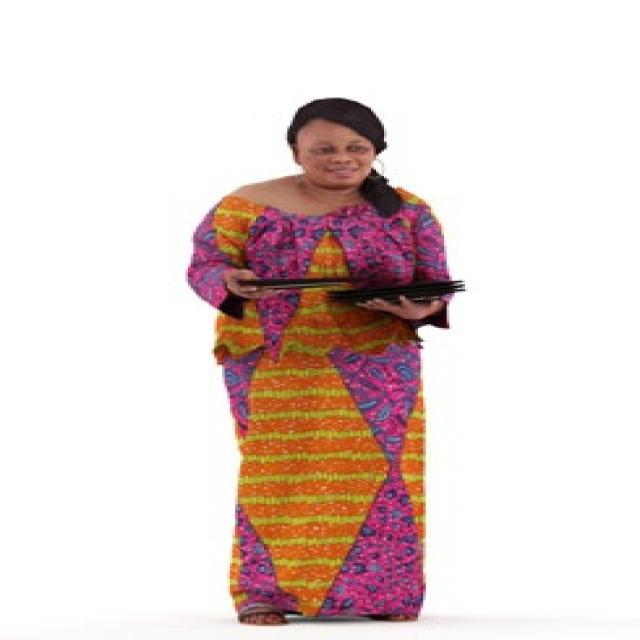standing: (180, 94, 470, 629)
